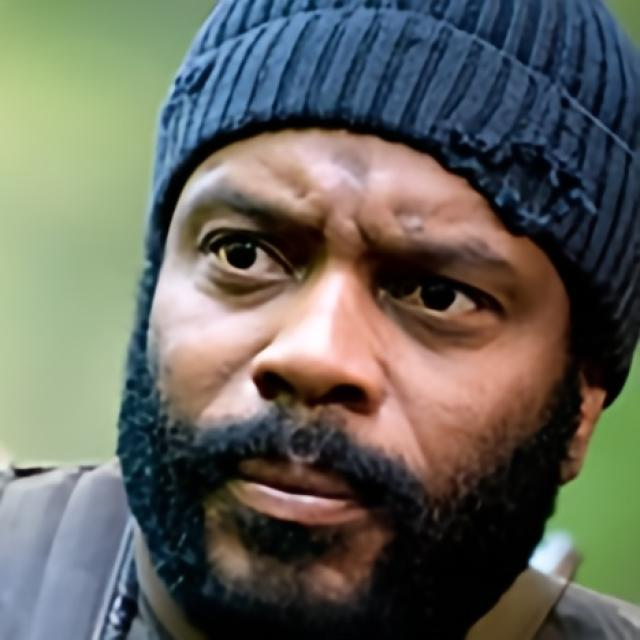anger: (153, 82, 564, 616)
